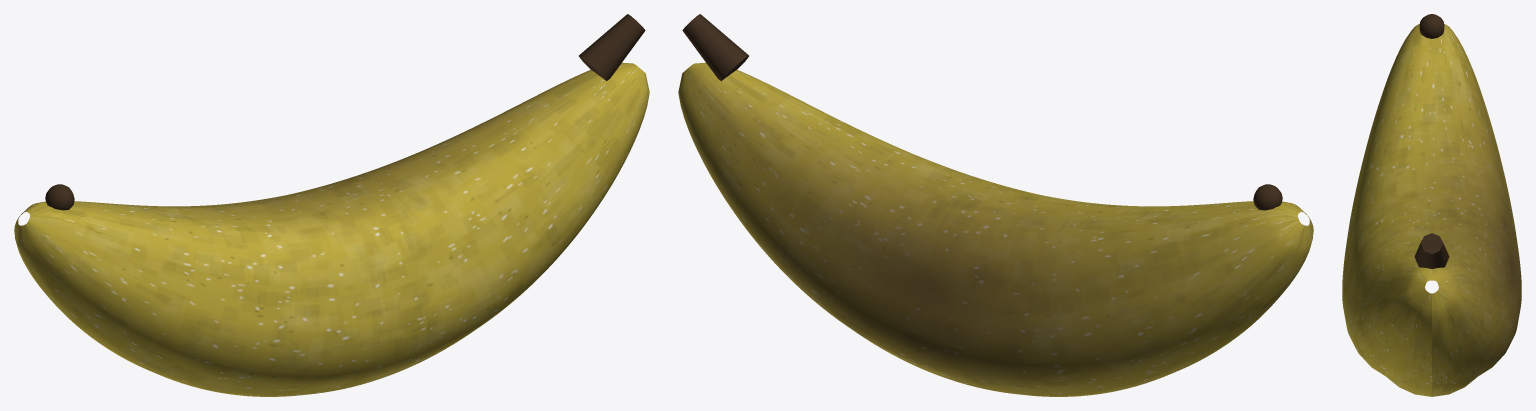
The model's file is plantain.glb.
3 views of the same model, side by side, from view 1: azimuth 30°, elevation 25°; view 2: azimuth 150°, elevation 25°; view 3: azimuth 270°, elevation 25° (orthographic). The views are drawn at different scales.
Bounding box in the file's own units: 0.1697 × 0.0762 × 0.0476.
2 materials, 1 textured.
